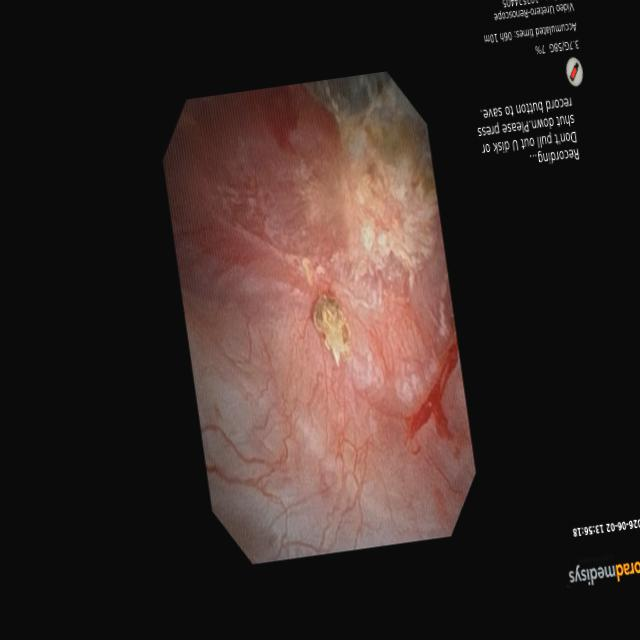stone-new: (306, 72, 435, 195), (313, 294, 351, 365)
